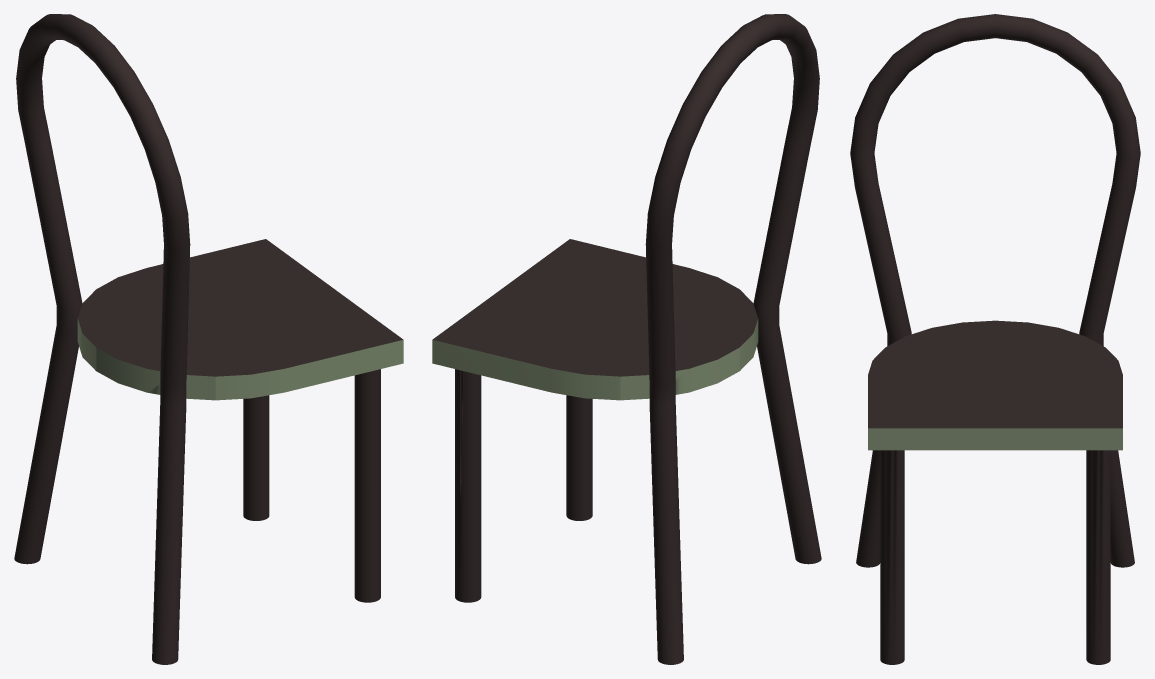
The model's file is chair15.obj.
3 views of the same model, side by side, from view 1: azimuth 30°, elevation 25°; view 2: azimuth 150°, elevation 25°; view 3: azimuth 270°, elevation 25° (orthographic). The views are drawn at different scales.
Visible parts, largest first — view 1: Mesh1 Model; view 2: Mesh1 Model; view 3: Mesh1 Model.
Part boxes in pixels (x1=…): Mesh1 Model: x1=14, y1=14, x2=403, y2=664; Mesh1 Model: x1=432, y1=14, x2=821, y2=664; Mesh1 Model: x1=850, y1=14, x2=1140, y2=664.
Size of the model in its own units: 0.4582 by 0.9873 by 0.4792.
